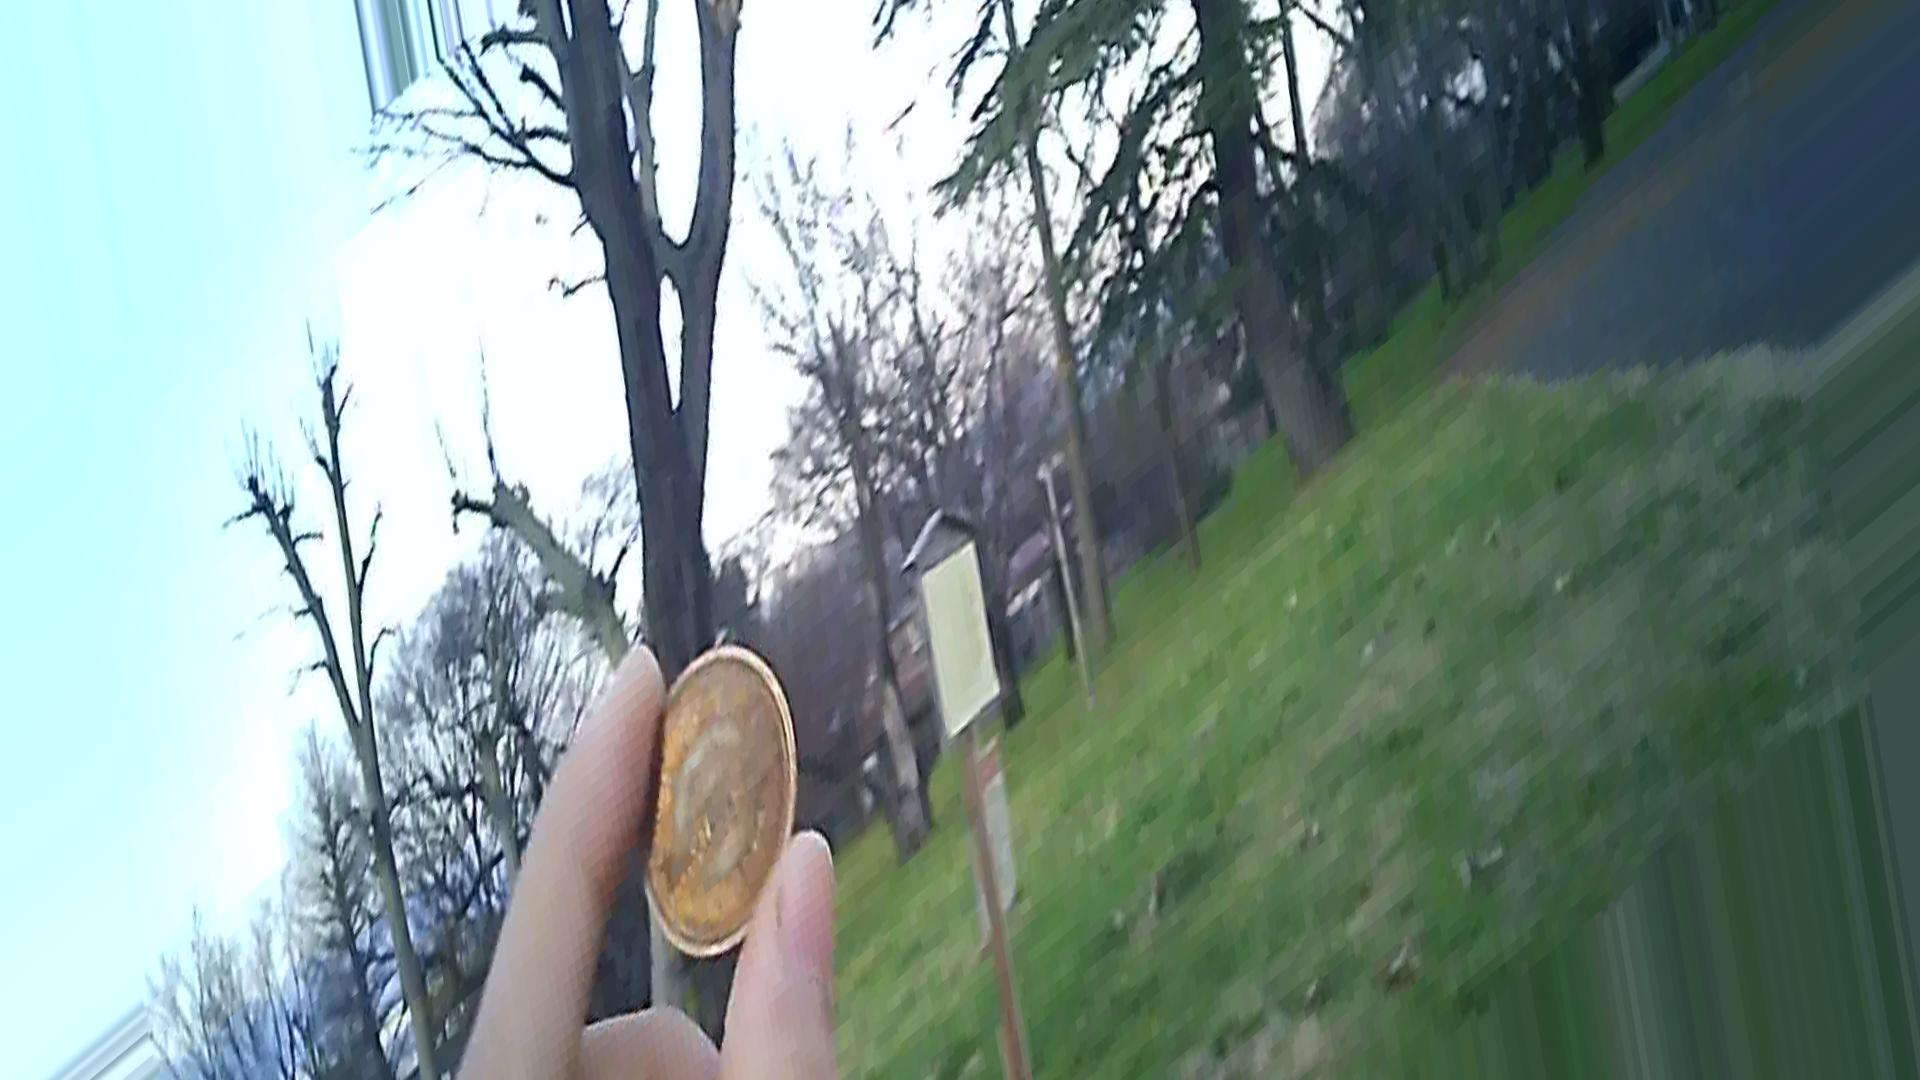10 Yen: (607, 630, 807, 977)
